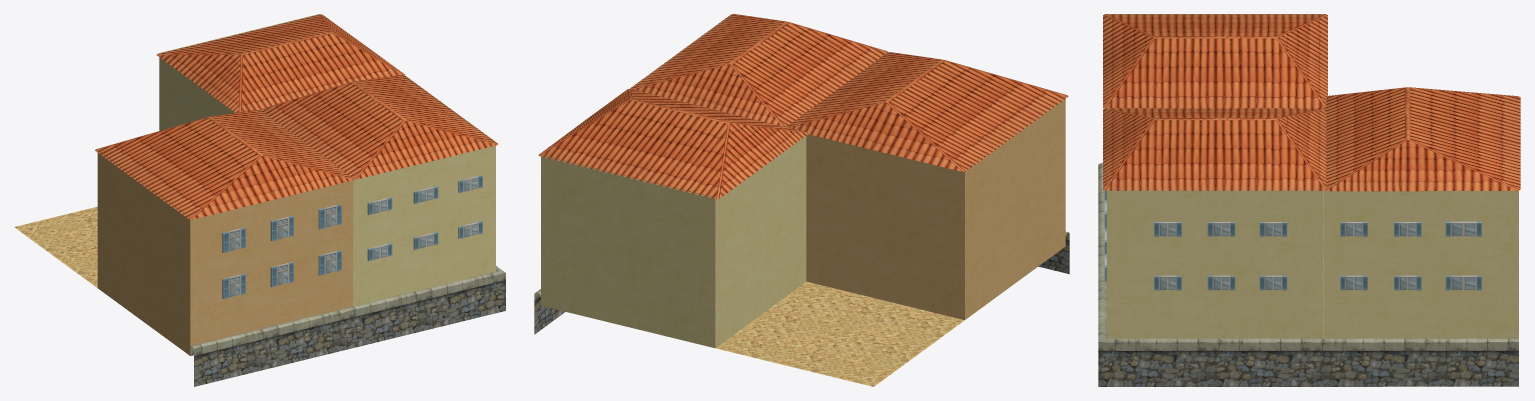
The model's file is Dock_Corner.FBX.
The picture shows the model from 3 angles, left to right: view 1: azimuth 30°, elevation 25°; view 2: azimuth 150°, elevation 25°; view 3: azimuth 270°, elevation 25°; orthographic projection. The views are drawn at different scales.
Visible parts, largest first — view 1: Dock_Corner; view 2: Dock_Corner; view 3: Dock_Corner.
Boxes of the visible parts, left/top/right/bottom form: Dock_Corner: left=14, top=14, right=505, bottom=386; Dock_Corner: left=534, top=14, right=1069, bottom=386; Dock_Corner: left=1098, top=14, right=1520, bottom=386.
Bounding box in the file's own units: 29.69 × 29.57 × 17.31.
